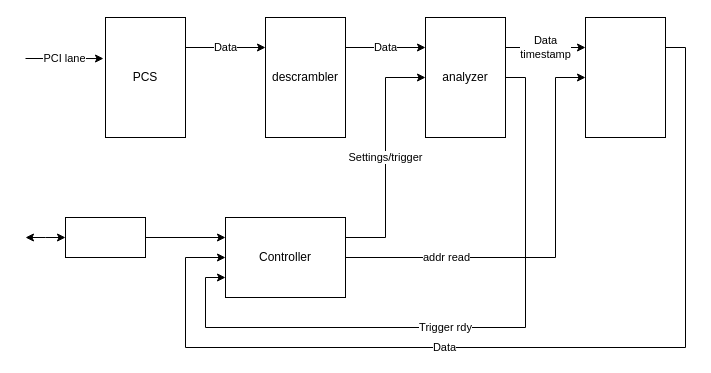
Image size: 711x373. Some labels were removed from this diagram. The box of each missing label's shape, as (x1, y1, x2, y2) in pixels:
RAM 128K: (584, 16, 666, 138)
SPI: (64, 216, 146, 258)
